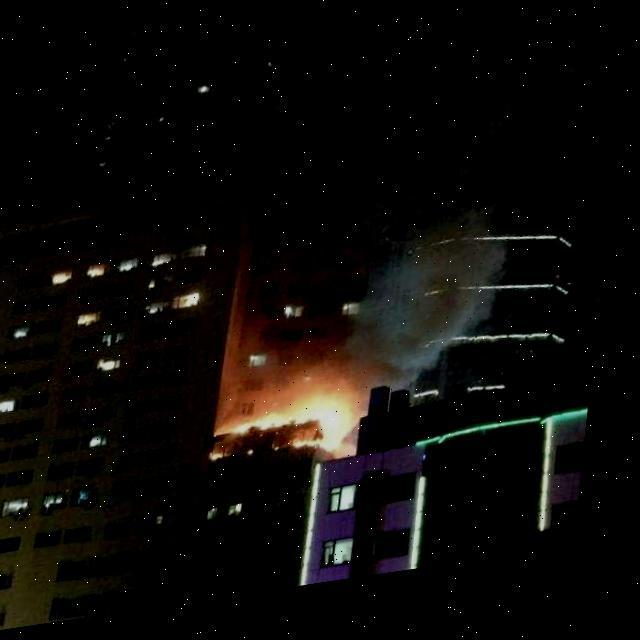Fire: (230, 393, 370, 488)
